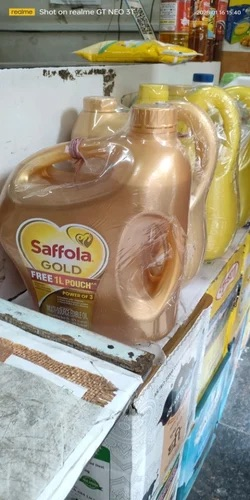saffola: (0, 89, 217, 342)
